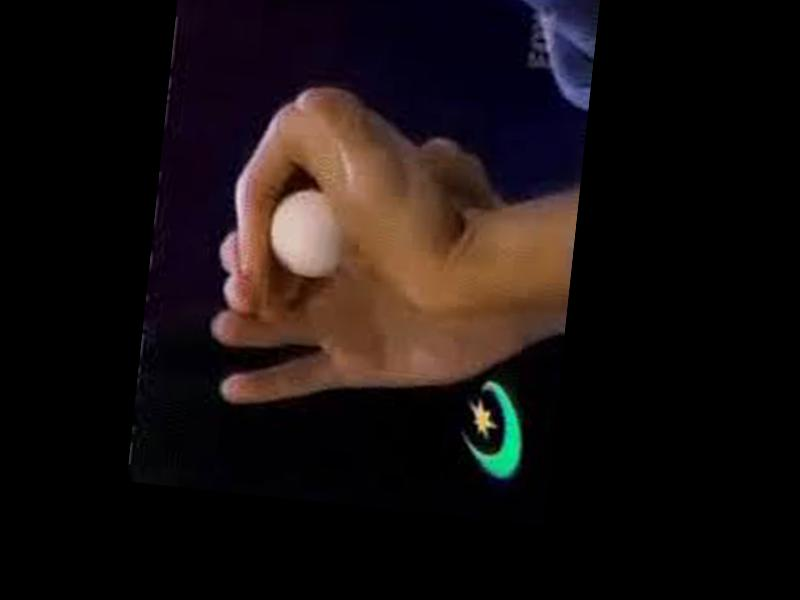Eggs: (263, 183, 341, 280)
